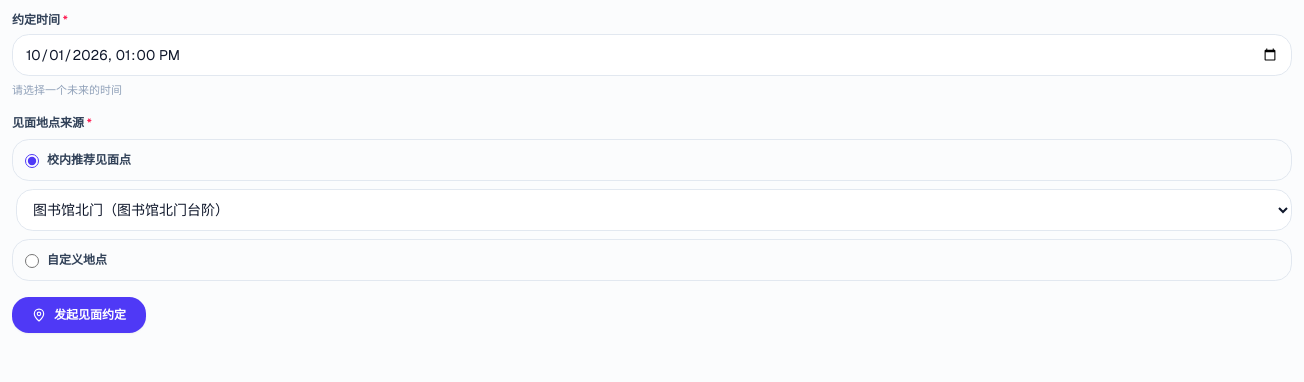
MeetupProposalForm › 提交：FormData 携带 orderId + scheduledAt + 按来源的单一地点通道
Replace the text in the field labelled "约定时间 *" with "2026-10-05T14:30" at {"x": 652, "y": 55}, box [12,34,1292,76]
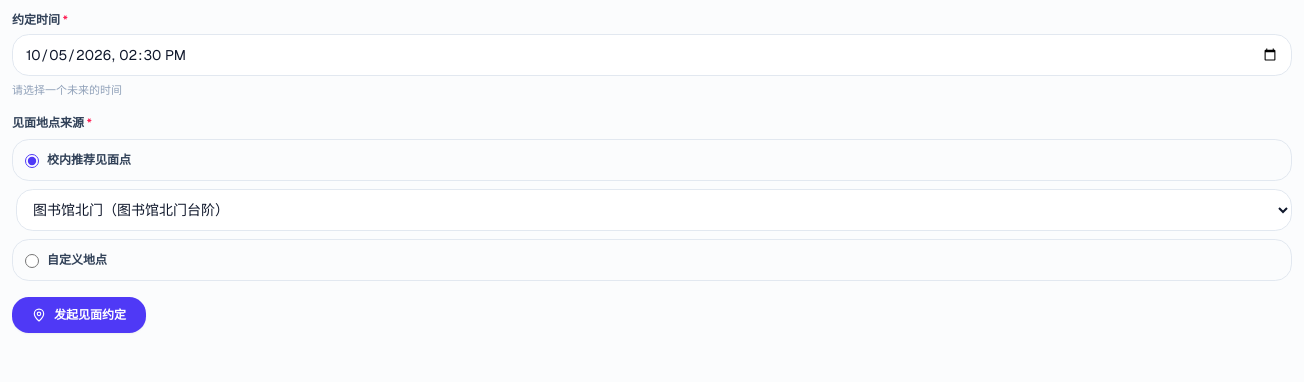
Submit the form "发起见面约定"
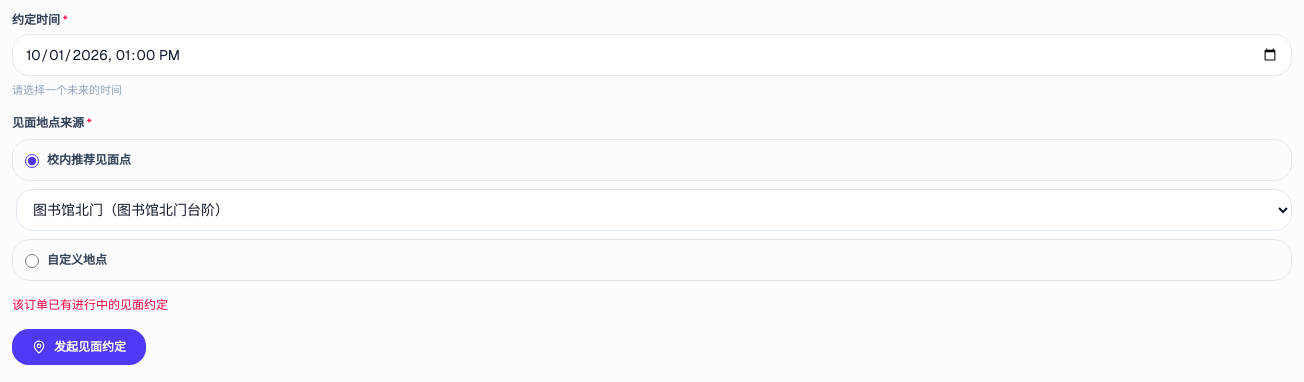
expect the message reads "该订单已有进行中的见面约定": met, box [12,296,168,312]
